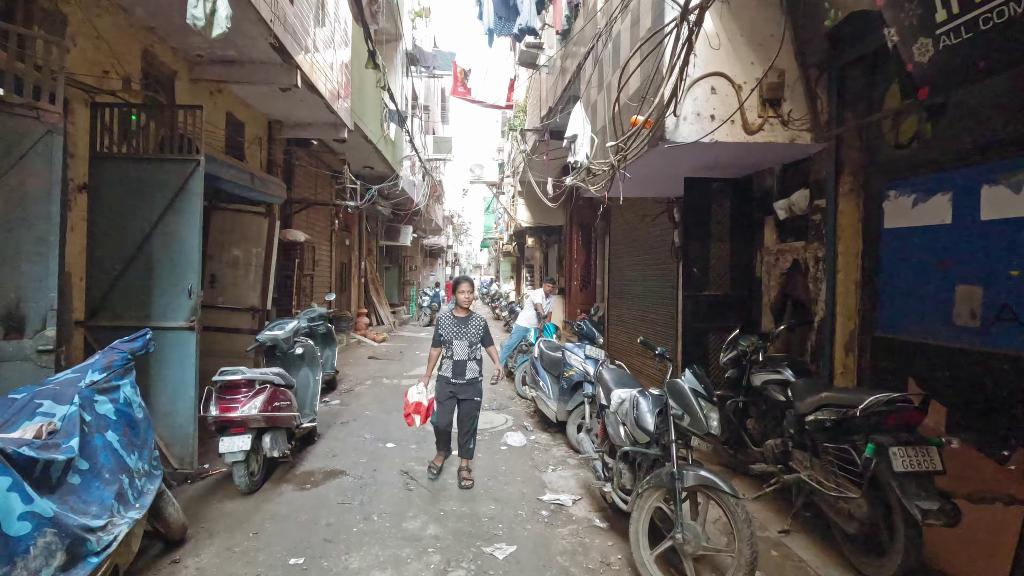garbage: (481, 540, 517, 562), (537, 493, 582, 507), (502, 430, 528, 448)
